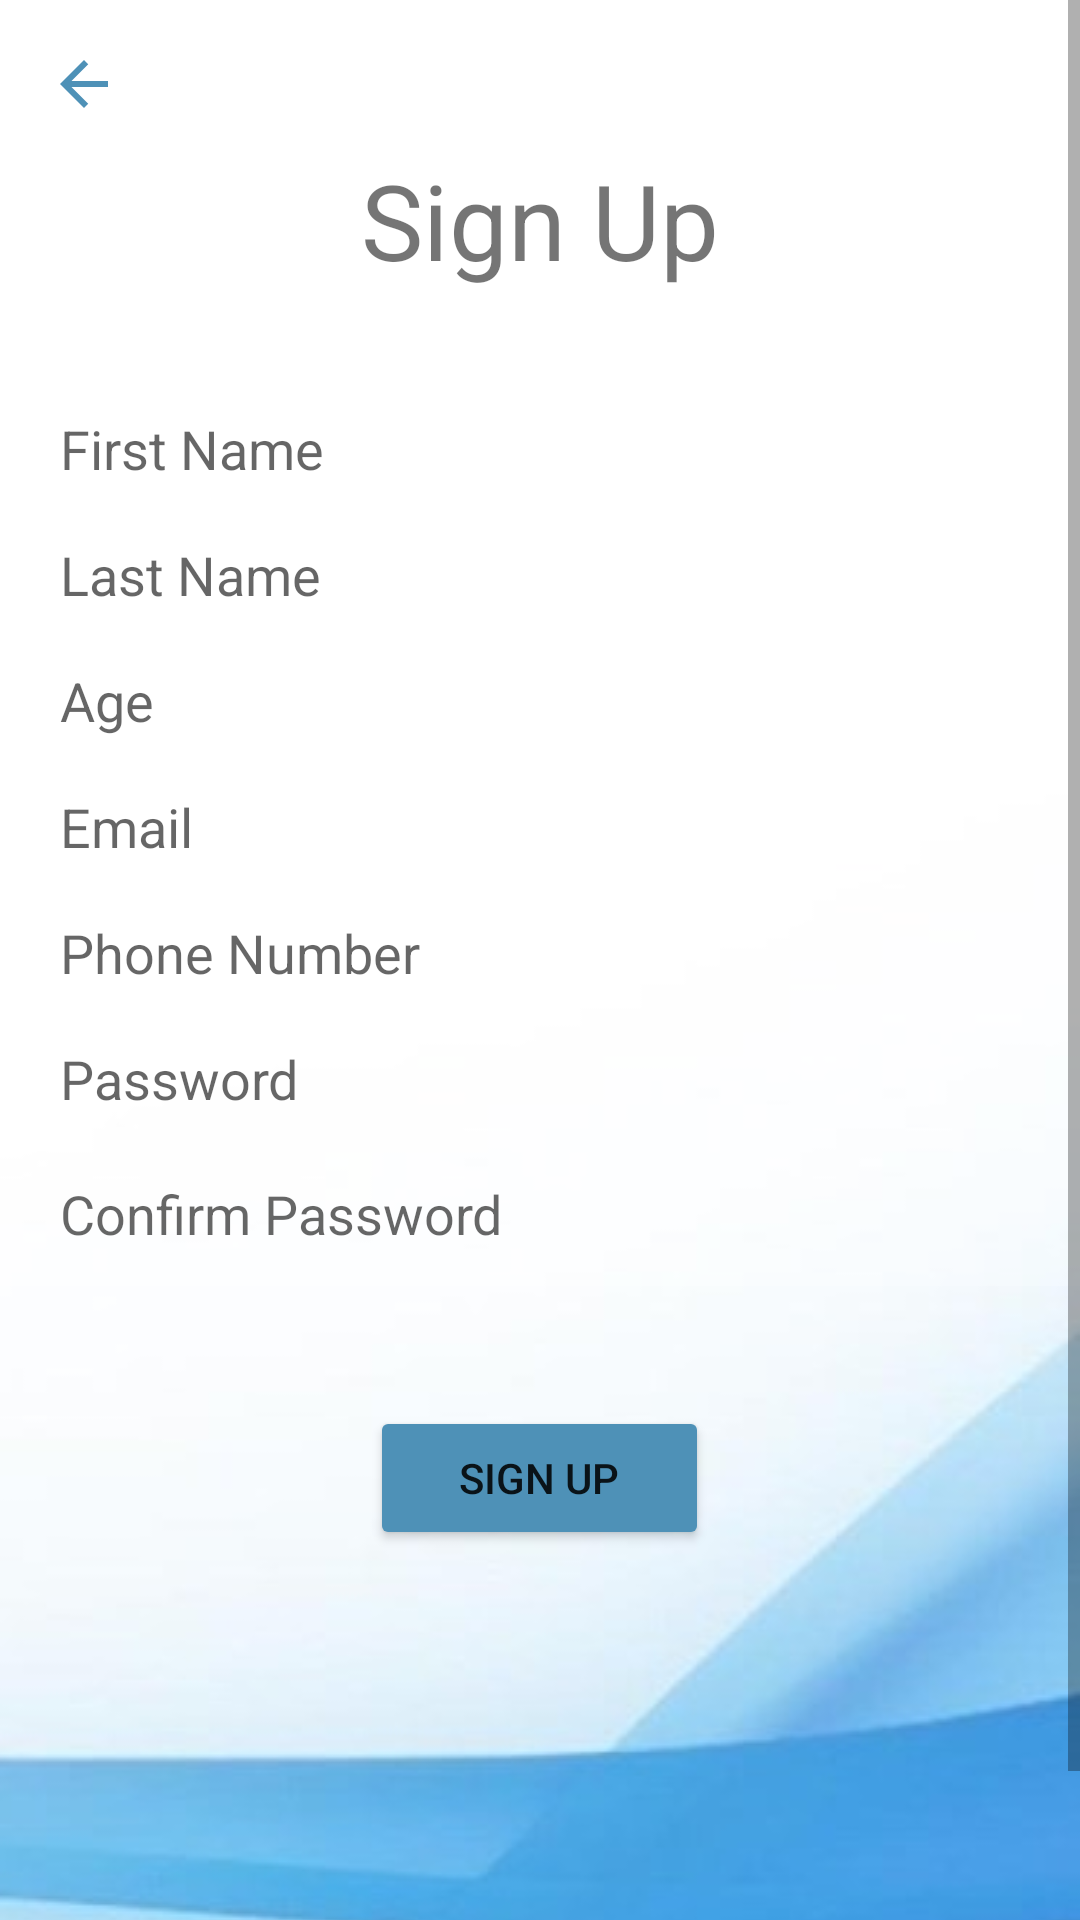

Icons on this 1080 × 1920 Android screen, each with the point to tap as (x,y):
Return to previous page: (84,84)
